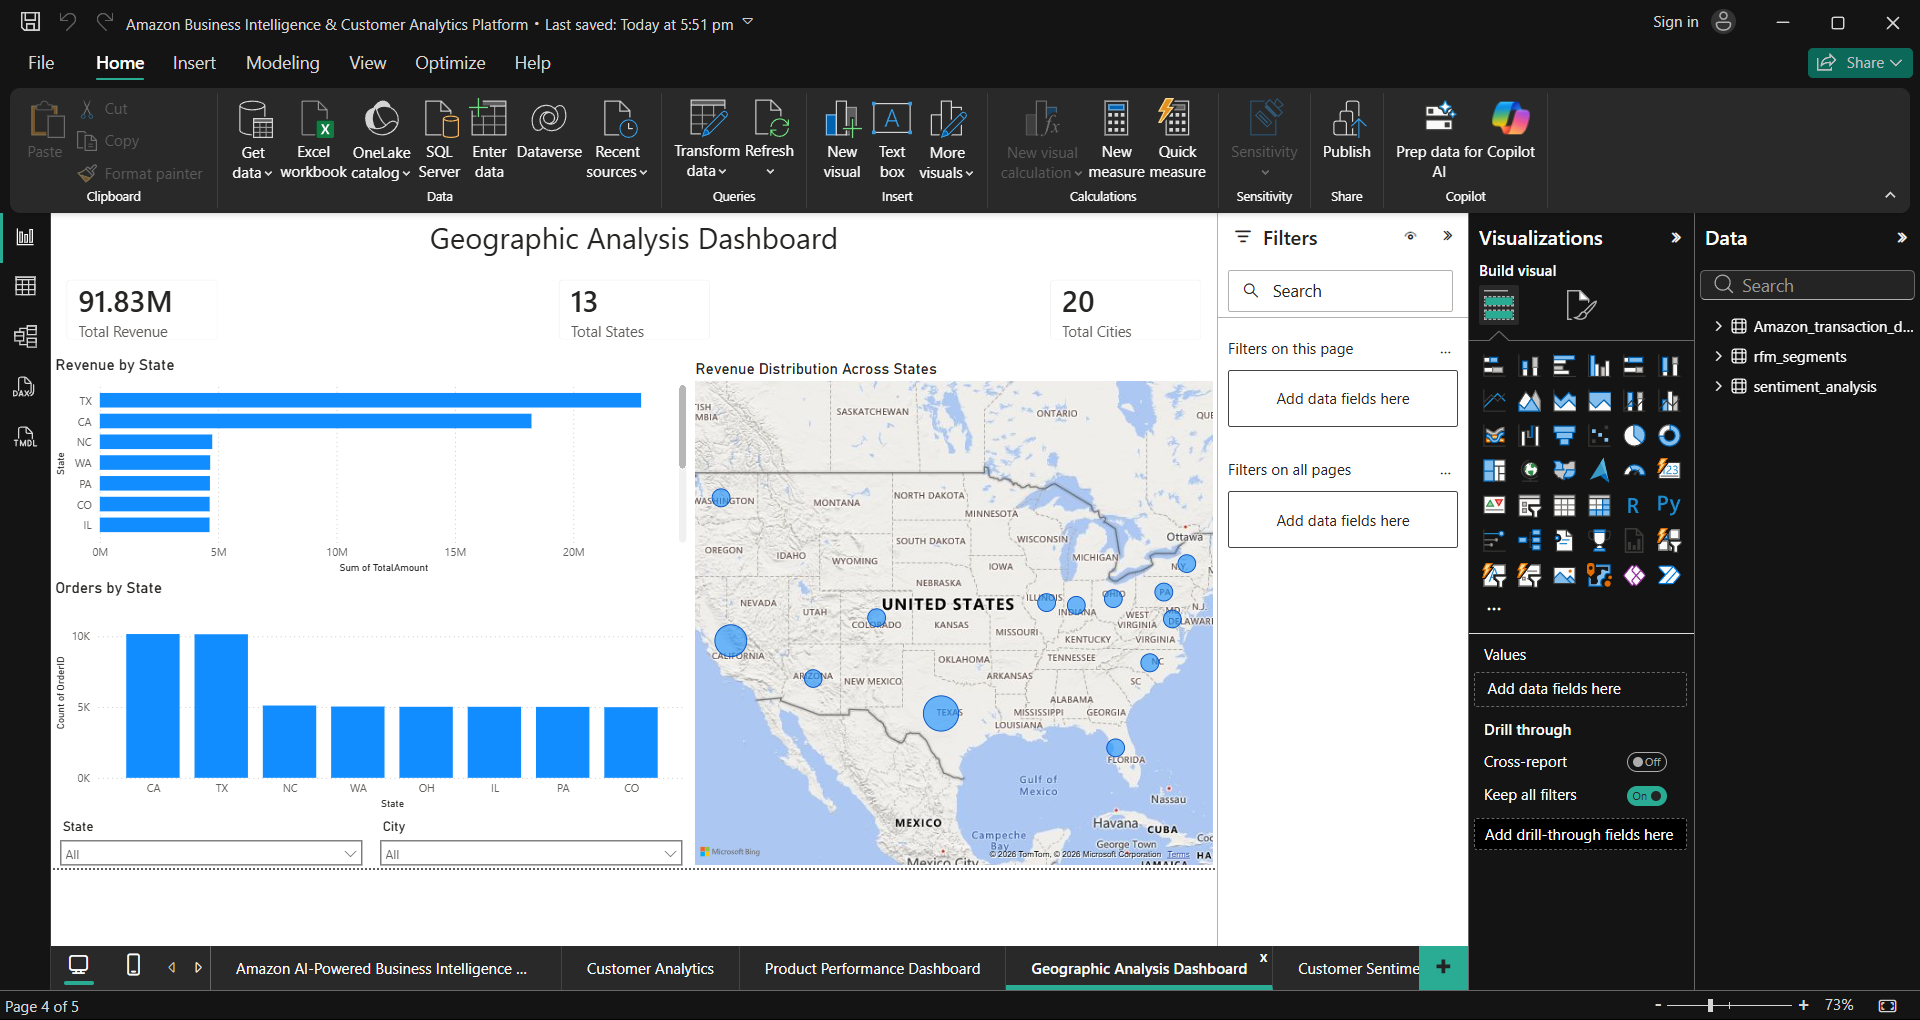

This screenshot's page, from the dashboard's own definition file:
{"tool":"powerbi","page":{"name":"Geographic Analysis Dashboard","canvas":[1280,720],"ordinal":3},"visuals":[{"type":"cardVisual","fields":{"Data":["Sum(Amazon_transaction_data.TotalAmount)"]},"box":[0,56.3,200,100],"z":0},{"type":"cardVisual","fields":{"Data":["Count(Amazon_transaction_data.State)"]},"box":[540.7,56.3,200.3,100.2],"z":1000},{"type":"cardVisual","fields":{"Data":["Count(Amazon_transaction_data.City)"]},"box":[1079.7,56.3,200.3,100.2],"z":2000},{"type":"clusteredBarChart","title":"Revenue by State","fields":{"Category":["Amazon_transaction_data.State"],"Y":["Sum(Amazon_transaction_data.TotalAmount)"]},"box":[0,156.4,702.6,244.3],"z":3000},{"type":"clusteredColumnChart","title":"Orders by State","fields":{"Category":["Amazon_transaction_data.State"],"Y":["CountNonNull(Amazon_transaction_data.OrderID)"]},"box":[0,400.7,702.6,259.3],"z":4000},{"type":"map","title":"Revenue Distribution Across States","fields":{"Category":["Amazon_transaction_data.State"],"Size":["Sum(Amazon_transaction_data.TotalAmount)"]},"box":[702.6,160.5,577.7,559.9],"z":5000},{"type":"textbox","box":[0,0,1280.3,56.3],"z":6000},{"type":"slicer","fields":{"Values":["Amazon_transaction_data.City"]},"box":[351.3,660,351.3,60.4],"z":7000},{"type":"slicer","fields":{"Values":["Amazon_transaction_data.State"]},"box":[0,660,351.3,60.4],"z":8000}]}

Visuals, with their boxes on the page's 1280x720 design canvas (x1, y1, x2, y2). These are canvas units, not pixel positions in the 1920x1020 screenshot, which may show the page scaled, cropped or inside an application window:
cardVisual - Sum(Amazon_transaction_data.TotalAmount): 0,56,200,156
cardVisual - Count(Amazon_transaction_data.State): 541,56,741,156
cardVisual - Count(Amazon_transaction_data.City): 1080,56,1280,156
"Revenue by State" clusteredBarChart: 0,156,703,401
"Orders by State" clusteredColumnChart: 0,401,703,660
"Revenue Distribution Across States" map: 703,160,1280,720
textbox: 0,0,1280,56
slicer - Amazon_transaction_data.City: 351,660,703,720
slicer - Amazon_transaction_data.State: 0,660,351,720
